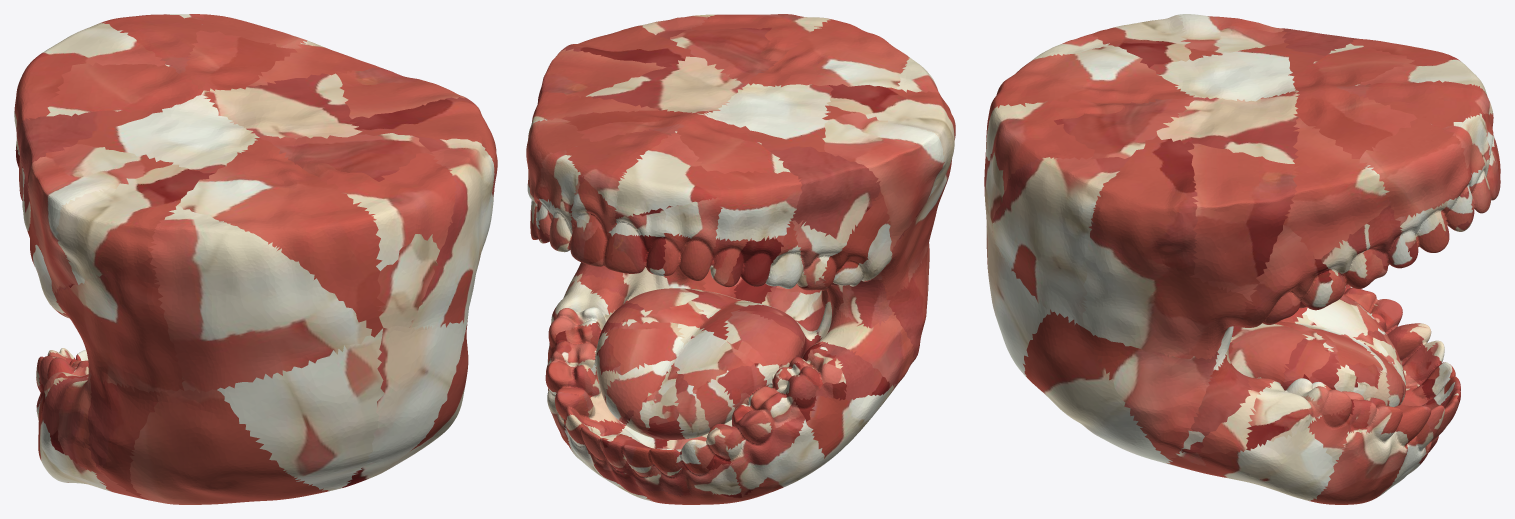
Rendered from mouth_full.obj.
The picture shows the model from 3 angles, left to right: view 1: azimuth 30°, elevation 25°; view 2: azimuth 150°, elevation 25°; view 3: azimuth 270°, elevation 25°; orthographic projection. The views are drawn at different scales.
Bounding box in the file's own units: 1.73 × 1.58 × 1.9.
1 material, 1 textured.
